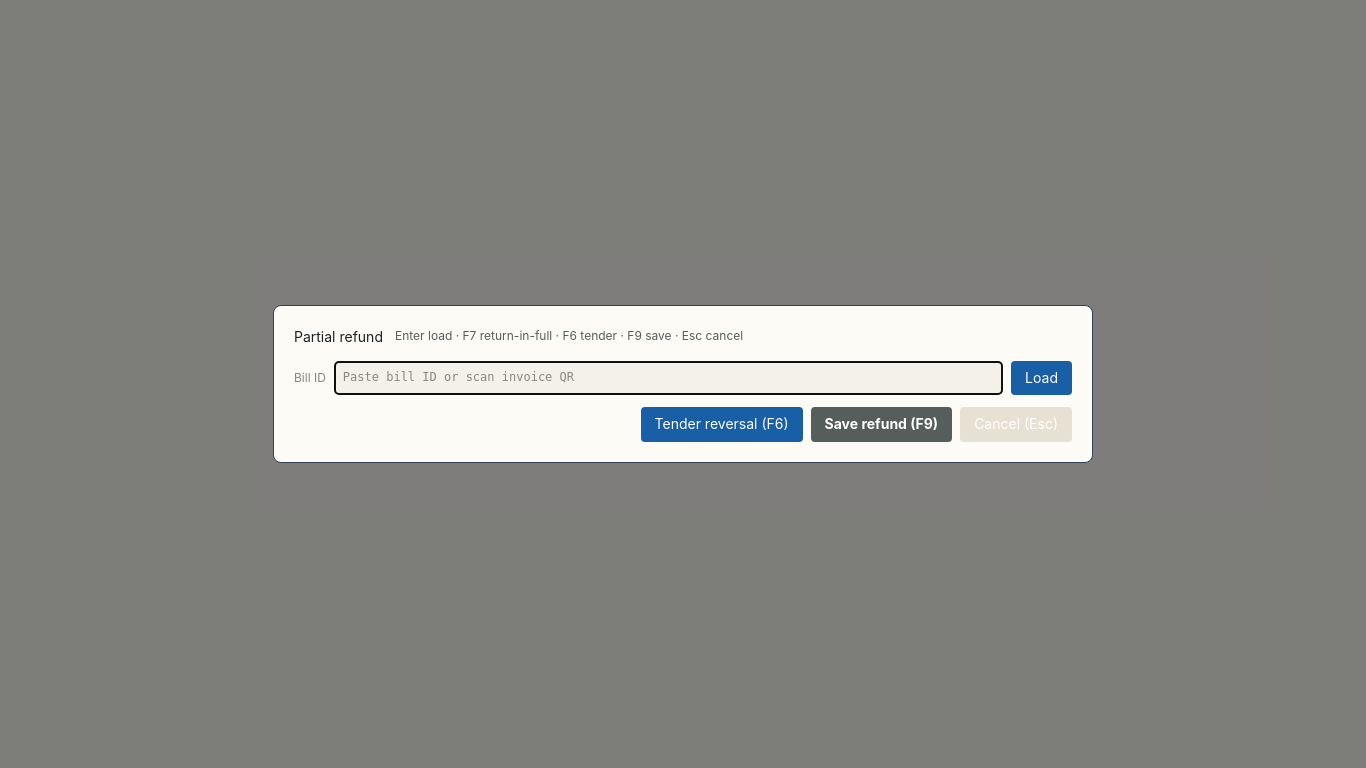
Test: PartialReturnPicker · A8 step 7 › Enter loads bill + refundable qty per line
Type "bill_b1" into the field with test id "ret-picker-bill-id" at coordinates (668, 378), box [334,361,1003,395]
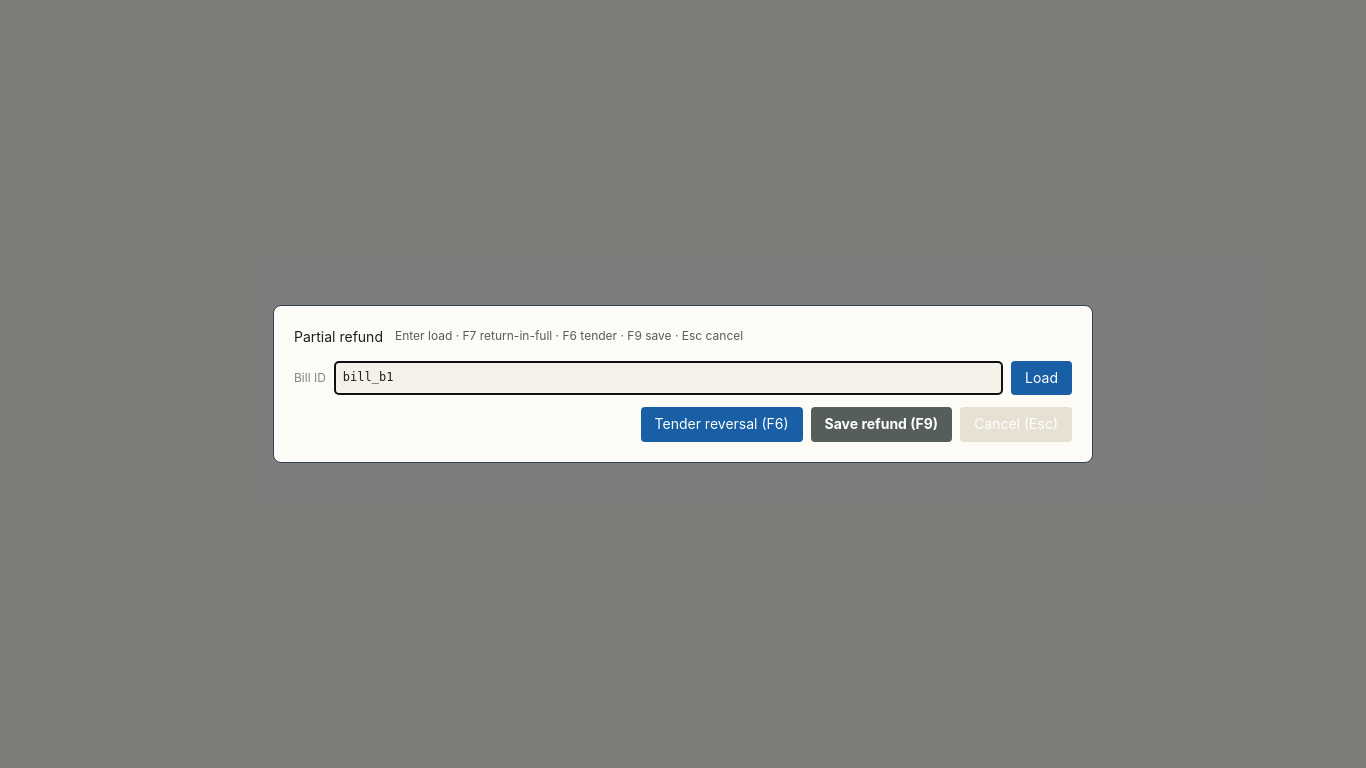
Press Enter in the field with test id "ret-picker-bill-id", box [334,361,1003,395]
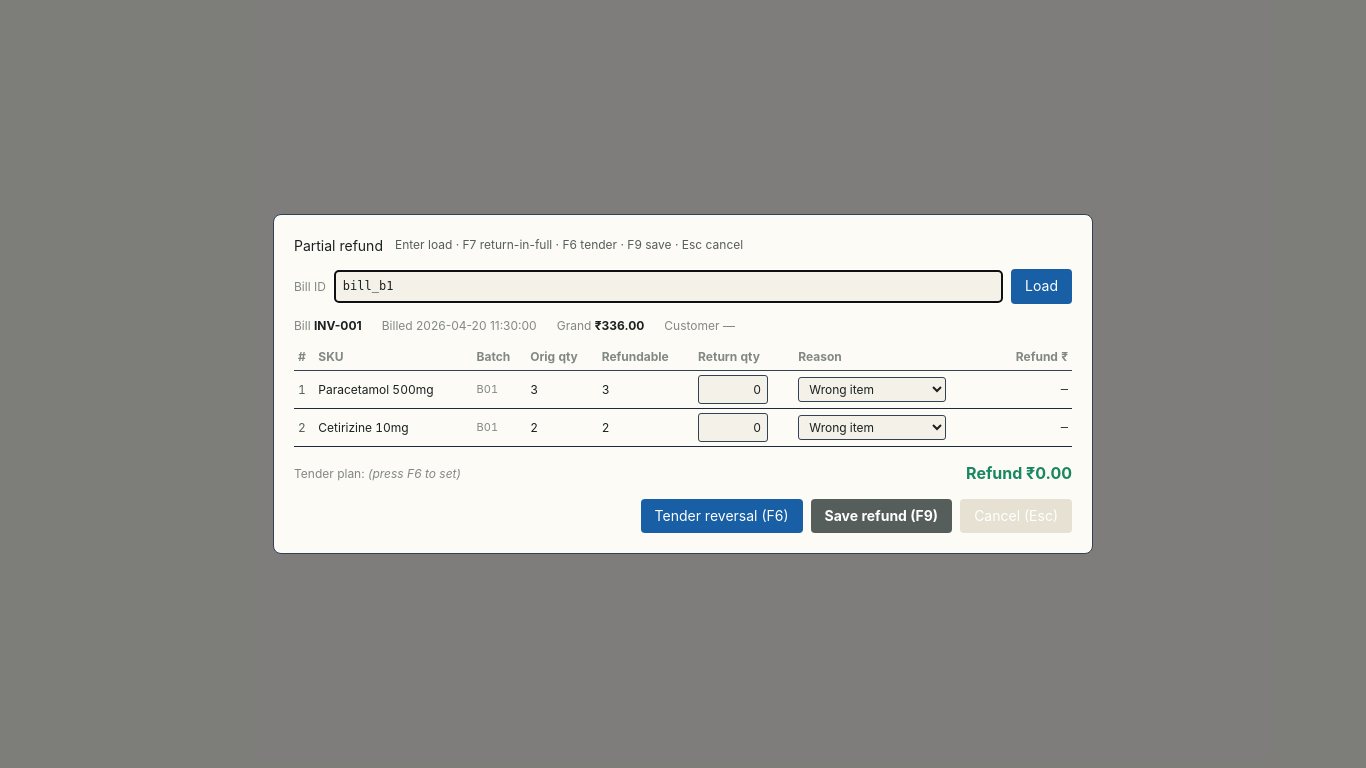
Expected: the table with test id "ret-picker-table" is shown, [294,343,1072,447]
Expected: the row with test id "ret-picker-row-0" is shown, [294,370,1072,409]
Expected: the row with test id "ret-picker-row-1" is shown, [294,409,1072,447]
